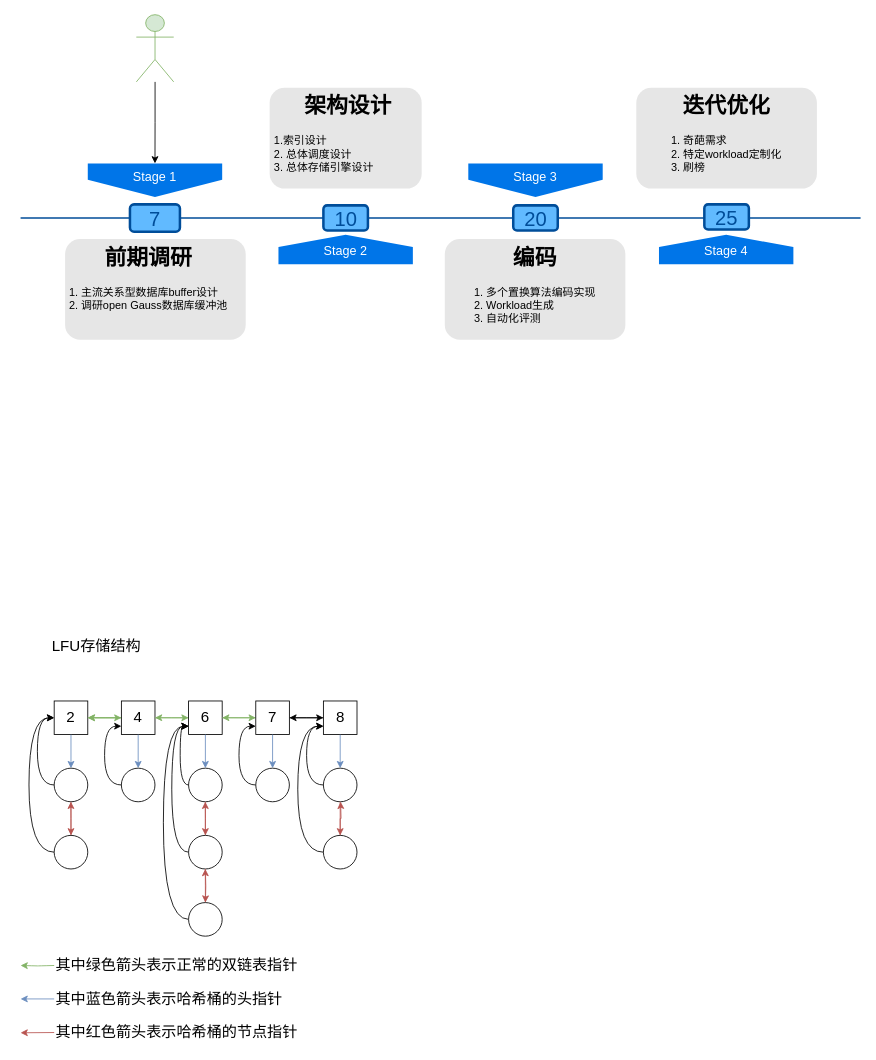
Image size: 876x1060. Some labels were removed from this diagram. The centre of each missing label's shape, as x and y in pixels:
"N1" belongs at point 70,784.
"N2" belongs at point 70,852.
"N3" belongs at point 138,784.
"N4" belongs at point 205,784.
"N5" belongs at point 205,852.
"N6" belongs at point 205,919.
"N7" belongs at point 272,784.
"N8" belongs at point 340,784.
"N9" belongs at point 340,852.
